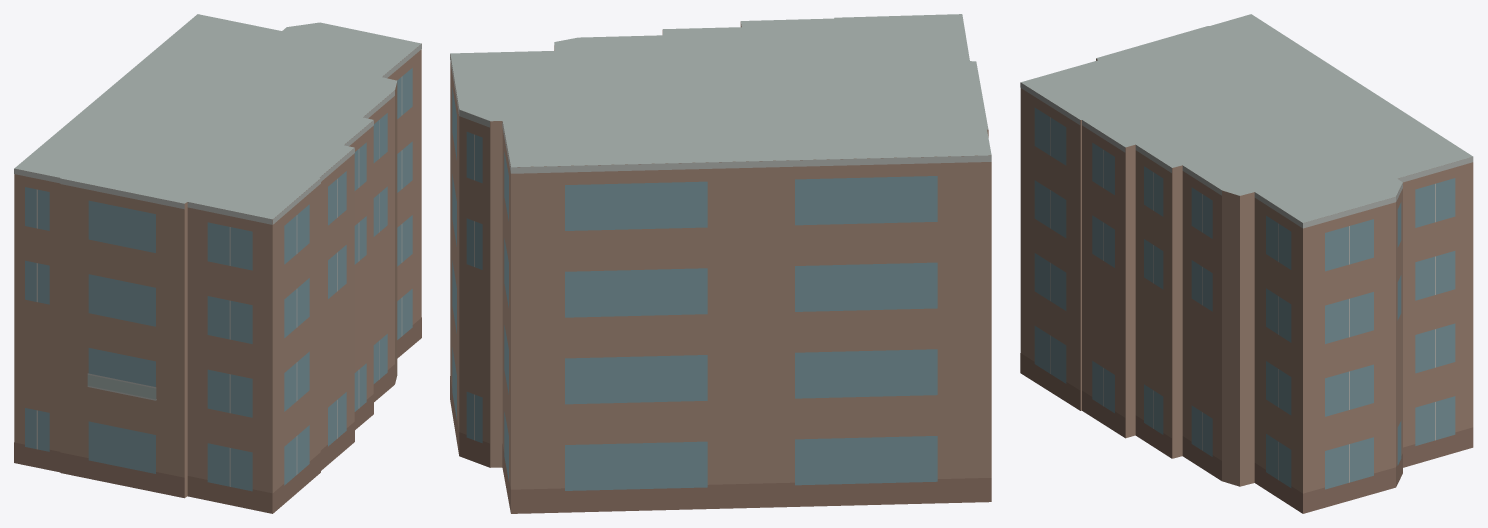
Rendered from survey-upis-33038935.glb.
The picture shows the model from 3 angles, left to right: view 1: azimuth 30°, elevation 25°; view 2: azimuth 150°, elevation 25°; view 3: azimuth 270°, elevation 25°; orthographic projection. The views are drawn at different scales.
Parts seen in each view (by area): view 1: survey-upis-33038935.tmp; view 2: survey-upis-33038935.tmp; view 3: survey-upis-33038935.tmp.
Boxes of the visible parts, x1=… form: survey-upis-33038935.tmp: x1=14, y1=14, x2=421, y2=513; survey-upis-33038935.tmp: x1=450, y1=14, x2=991, y2=513; survey-upis-33038935.tmp: x1=1020, y1=14, x2=1473, y2=513.
Bounding box in the file's own units: 19.97 × 12.95 × 18.28.
